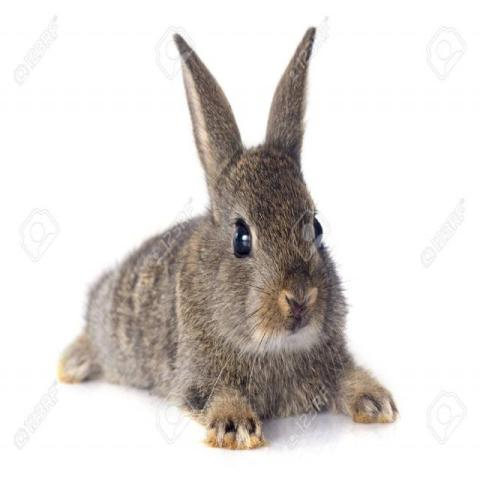small_animal: (55, 23, 401, 452)
